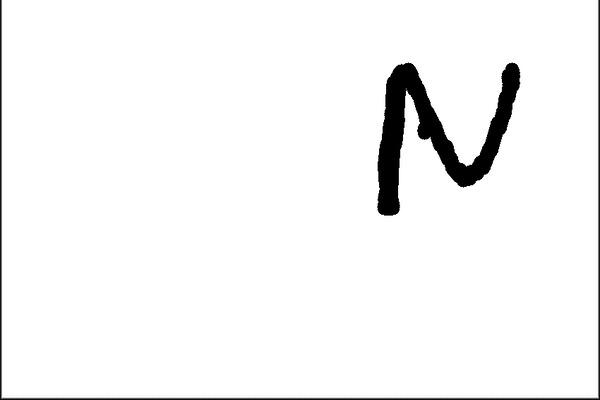N: (369, 56, 524, 220)
